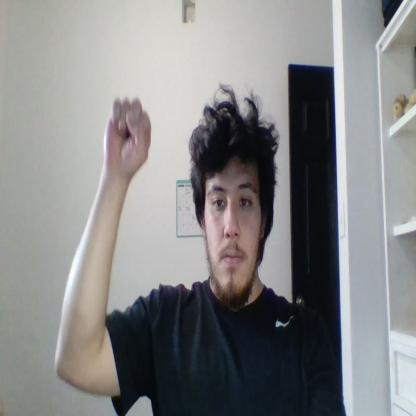S: (103, 98, 152, 178)
